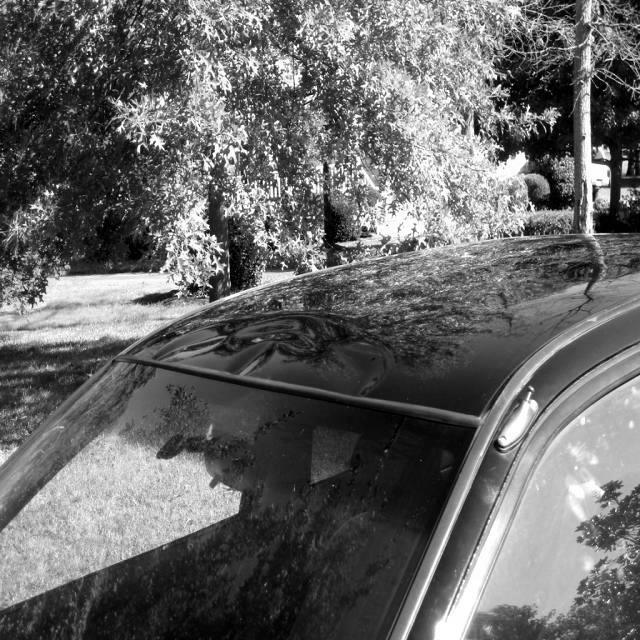roof-dent: (162, 292, 405, 406)
